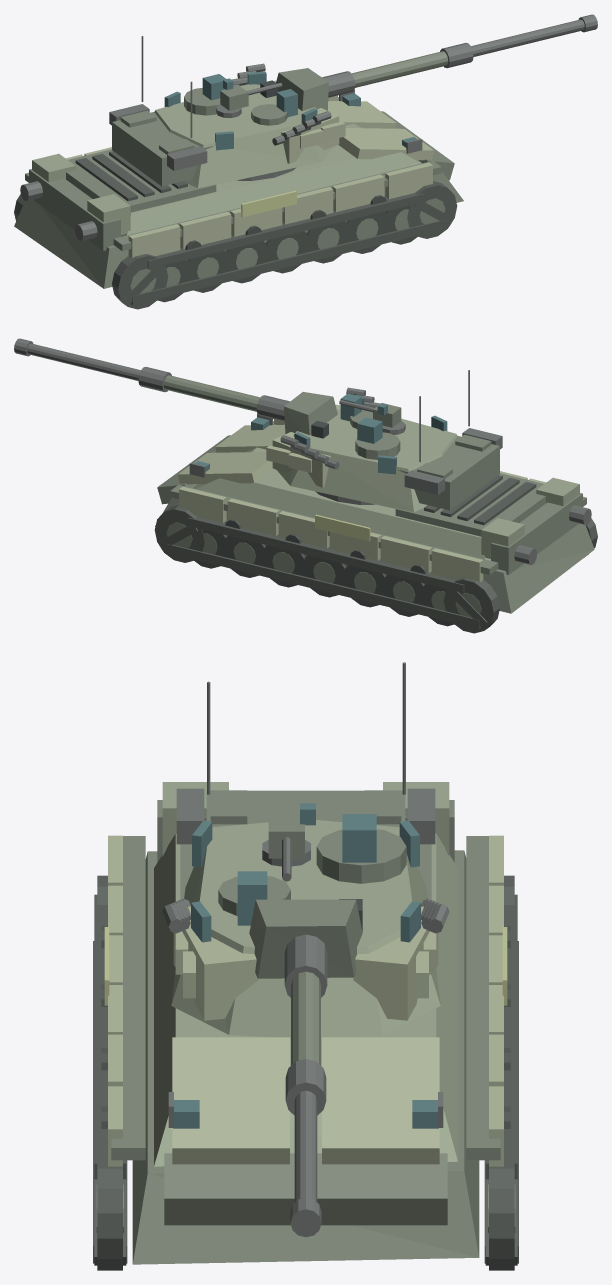
The model's file is aegis_x_mbt_v2.glb.
3 views of the same model, one above another, from view 1: azimuth 30°, elevation 25°; view 2: azimuth 150°, elevation 25°; view 3: azimuth 270°, elevation 25° (orthographic). The views are drawn at different scales.
Visible parts, largest first — view 1: TurretShell, UpperHull, LowerHull, Track_R_Lower, Track_R_Upper, TurretBustle, RearPowerPack, EngineDeck, GlacisCheek_R, Mantlet, ThermalSleeve, Sprocket_R (+33 smaller); view 2: TurretShell, UpperHull, LowerHull, Track_L_Lower, Track_L_Upper, TurretBustle, RearPowerPack, EngineDeck, GlacisCheek_L, Mantlet, ThermalSleeve, Sprocket_L (+33 smaller); view 3: LowerHull, TurretShell, LowerNose, UpperHull, GlacisCheek_L, GlacisCheek_R, Fender_L, Fender_R, Mantlet, TurretCheek_R, TurretCheek_L, TurretBustle (+27 smaller).
Part boxes in pixels (left/top/right/bottom): TurretShell: left=154, top=84, right=334, bottom=187; UpperHull: left=121, top=123, right=421, bottom=236; LowerHull: left=14, top=171, right=463, bottom=288; Track_R_Lower: left=131, top=220, right=445, bottom=305; Track_R_Upper: left=147, top=193, right=423, bottom=268; TurretBustle: left=112, top=111, right=213, bottom=186; RearPowerPack: left=29, top=169, right=120, bottom=250; EngineDeck: left=66, top=149, right=216, bottom=212; GlacisCheek_R: left=338, top=128, right=433, bottom=160; Mantlet: left=276, top=68, right=328, bottom=111; ThermalSleeve: left=351, top=51, right=448, bottom=87; Sprocket_R: left=112, top=254, right=168, bottom=309; TurretShell: left=277, top=409, right=457, bottom=511; UpperHull: left=193, top=447, right=490, bottom=560; LowerHull: left=155, top=484, right=594, bottom=613; Track_L_Lower: left=166, top=544, right=480, bottom=629; Track_L_Upper: left=188, top=517, right=464, bottom=592; TurretBustle: left=398, top=435, right=499, bottom=510; RearPowerPack: left=491, top=493, right=582, bottom=574; EngineDeck: left=395, top=473, right=545, bottom=536; GlacisCheek_L: left=178, top=452, right=273, bottom=484; Mantlet: left=284, top=392, right=337, bottom=435; ThermalSleeve: left=163, top=375, right=260, bottom=411; Sprocket_L: left=443, top=578, right=499, bottom=633; LowerHull: left=132, top=850, right=479, bottom=1264; TurretShell: left=171, top=820, right=440, bottom=1038; LowerNose: left=164, top=1153, right=447, bottom=1225; UpperHull: left=154, top=833, right=457, bottom=1166; GlacisCheek_L: left=322, top=1037, right=439, bottom=1164; GlacisCheek_R: left=172, top=1037, right=289, bottom=1164; Fender_L: left=466, top=836, right=500, bottom=1160; Fender_R: left=111, top=836, right=145, bottom=1160; Mantlet: left=249, top=899, right=362, bottom=978; TurretCheek_R: left=173, top=906, right=258, bottom=1020; TurretCheek_L: left=353, top=906, right=438, bottom=1020; TurretBustle: left=206, top=790, right=405, bottom=827.
Bounding box in the file's own units: 11.71 × 4.07 × 3.98.
